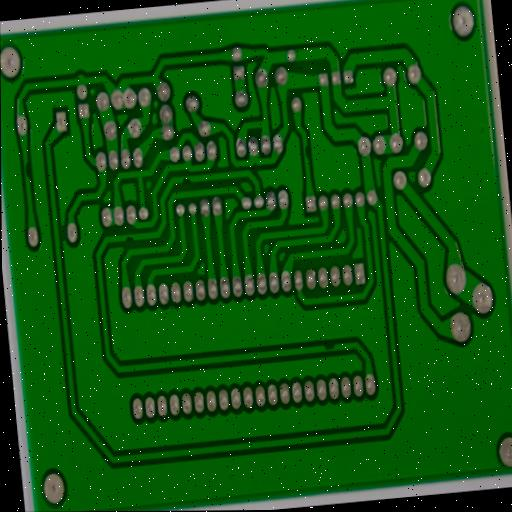mouse_bite: (20, 157, 34, 185), (301, 140, 314, 164), (322, 339, 340, 356), (122, 230, 140, 246), (181, 172, 196, 190)
